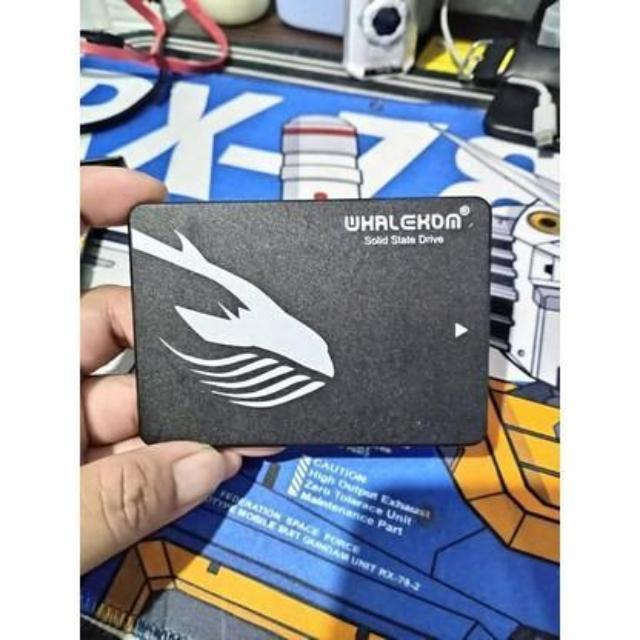DISK: (119, 178, 502, 470)
